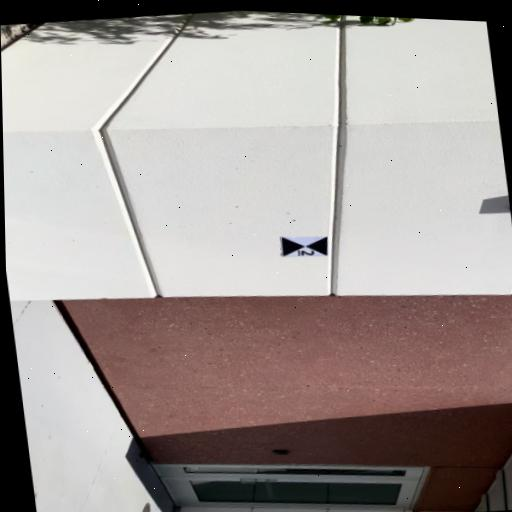target2: (280, 231, 330, 260)
